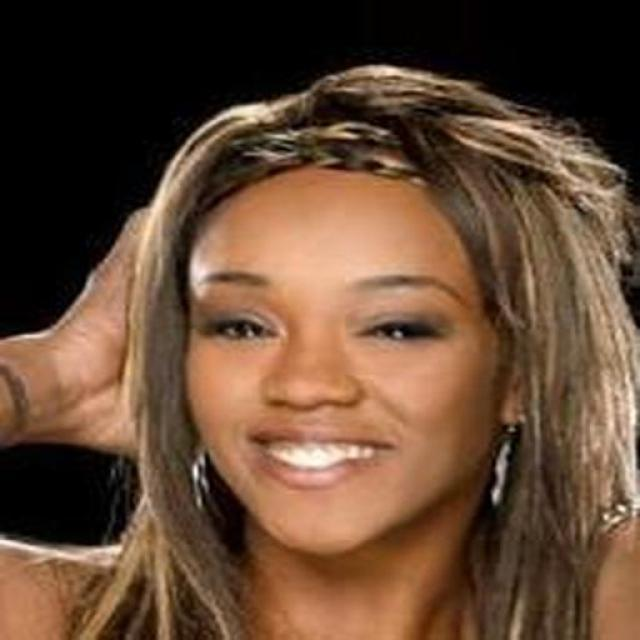bareface: (152, 117, 569, 566)
